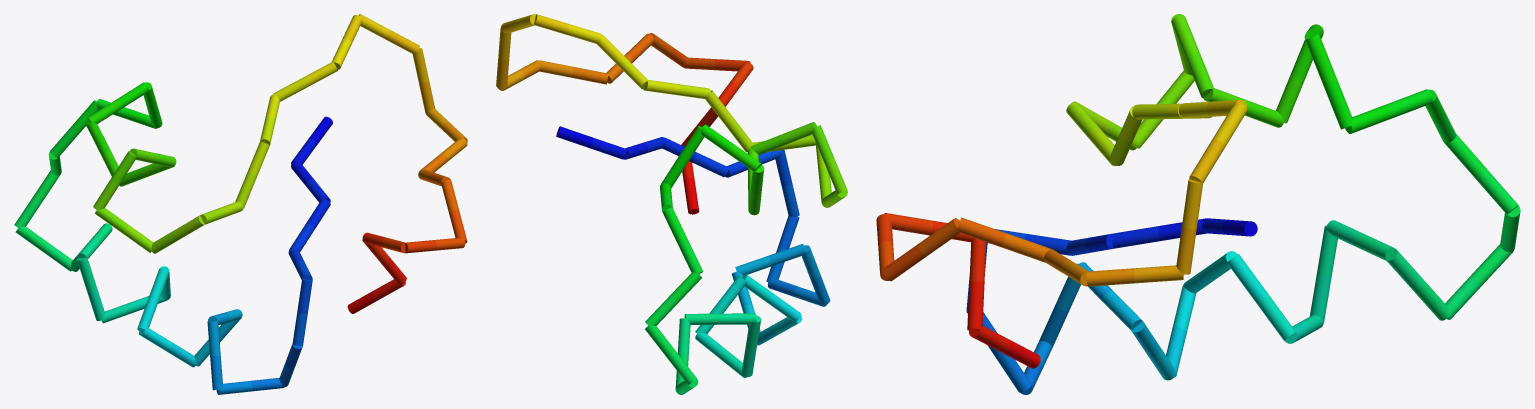
File: TR_1CRN.fbx
3 views of the same model, side by side, from view 1: azimuth 30°, elevation 25°; view 2: azimuth 150°, elevation 25°; view 3: azimuth 270°, elevation 25° (orthographic). The views are drawn at different scales.
Parts seen in each view (by area): view 1: 1CRN_0; view 2: 1CRN_0; view 3: 1CRN_0.
Part boxes in pixels (box(x1,y1,x2,y2)): 1CRN_0: box(14, 14, 467, 394); 1CRN_0: box(496, 14, 847, 394); 1CRN_0: box(876, 14, 1520, 394).
Size of the model in its own units: 21.86 by 17.79 by 25.45.
